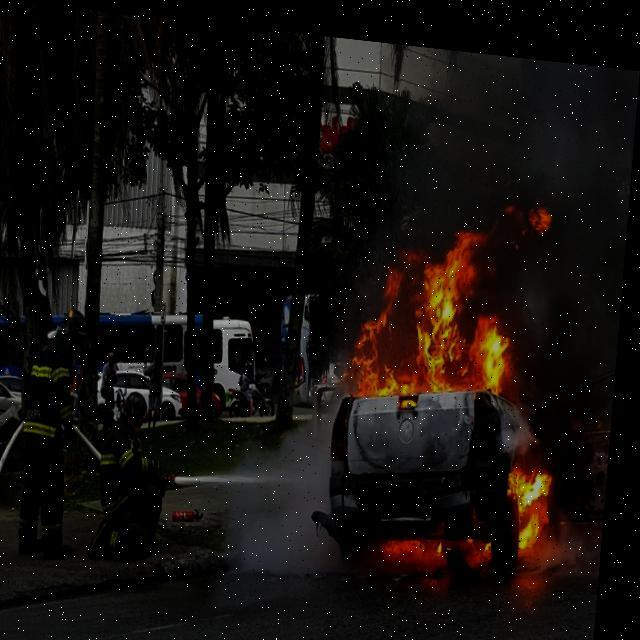Fire: (348, 168, 557, 412), (383, 434, 560, 570)
